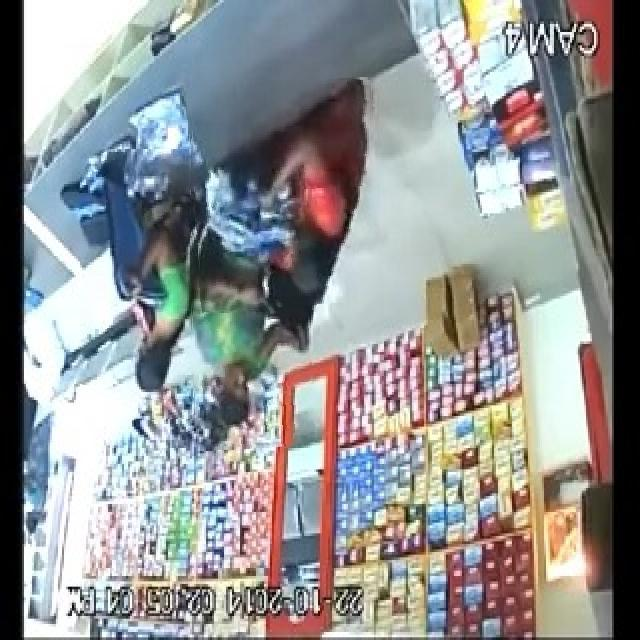Normal: (189, 80, 380, 311), (80, 149, 193, 420), (188, 211, 313, 449)
